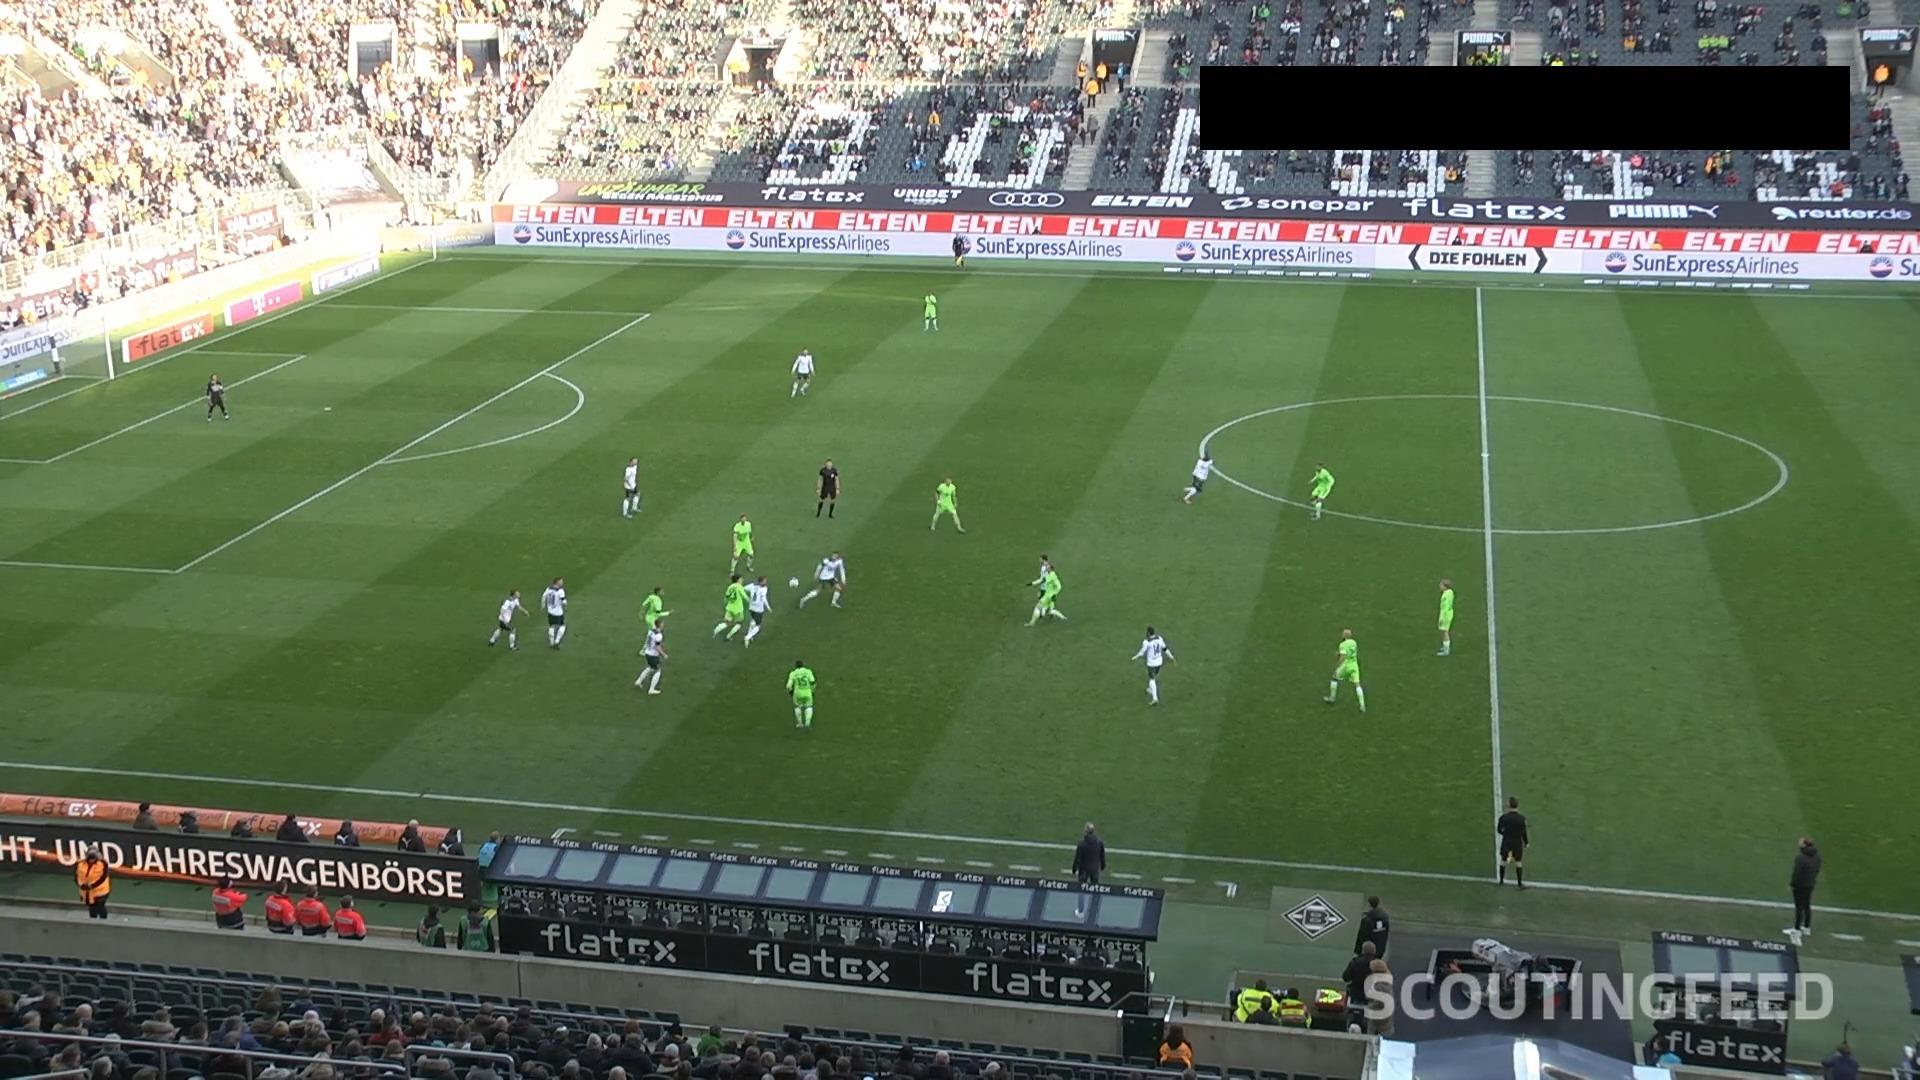ball: (788, 577, 798, 587)
coach: (1071, 821, 1105, 915), (1789, 834, 1821, 932), (1353, 894, 1389, 959)
player: (1321, 627, 1366, 712), (1130, 625, 1176, 705), (798, 550, 846, 609), (487, 588, 530, 650), (634, 617, 668, 694), (1023, 553, 1059, 625), (1028, 563, 1066, 627), (712, 572, 747, 641), (784, 658, 816, 728), (741, 574, 771, 647), (929, 476, 965, 533), (540, 576, 568, 649), (728, 512, 755, 577), (1181, 452, 1214, 504), (639, 585, 672, 635), (1434, 577, 1454, 655), (1307, 463, 1333, 519), (620, 456, 641, 517), (789, 346, 814, 397), (204, 372, 230, 421), (922, 291, 938, 331)
referee: (1495, 795, 1529, 889), (814, 458, 838, 518), (951, 232, 969, 267)
